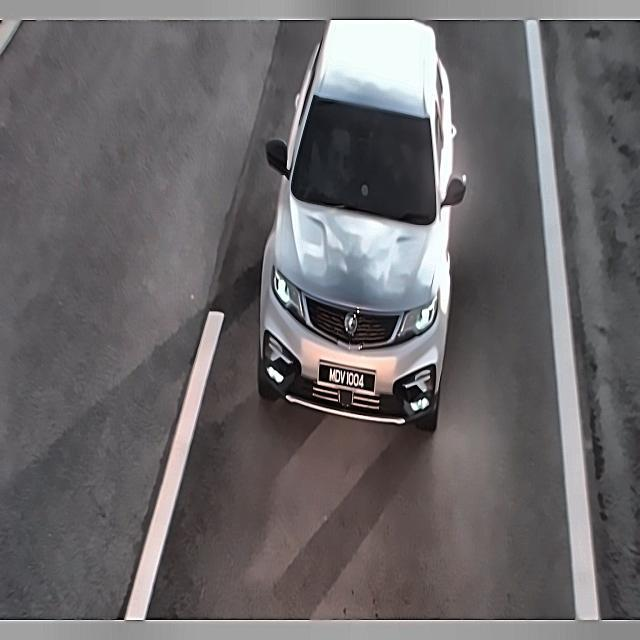car: (313, 353, 382, 398)
